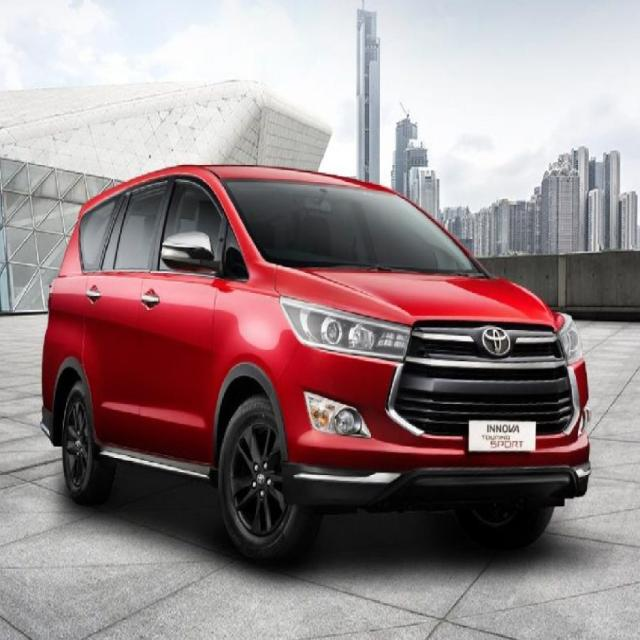light_vehicle: (40, 164, 593, 564)
